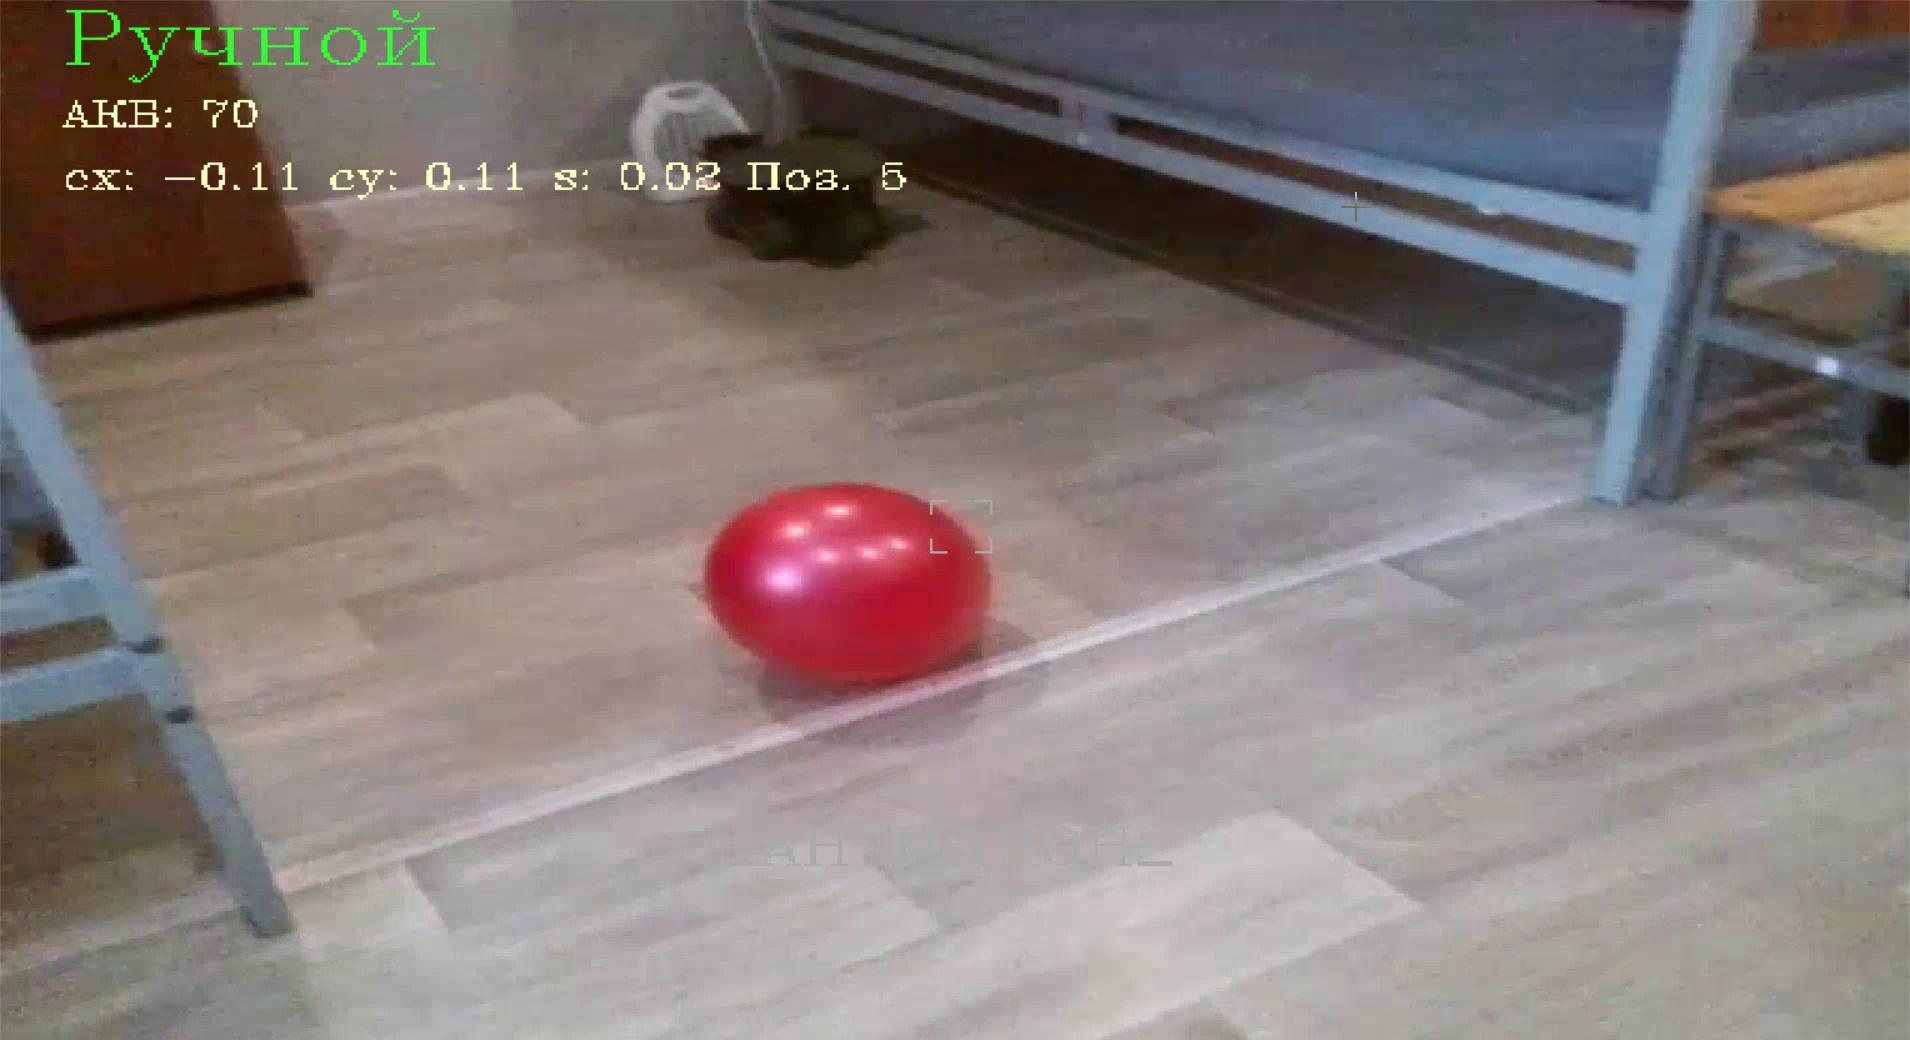red: (695, 475, 988, 697)
